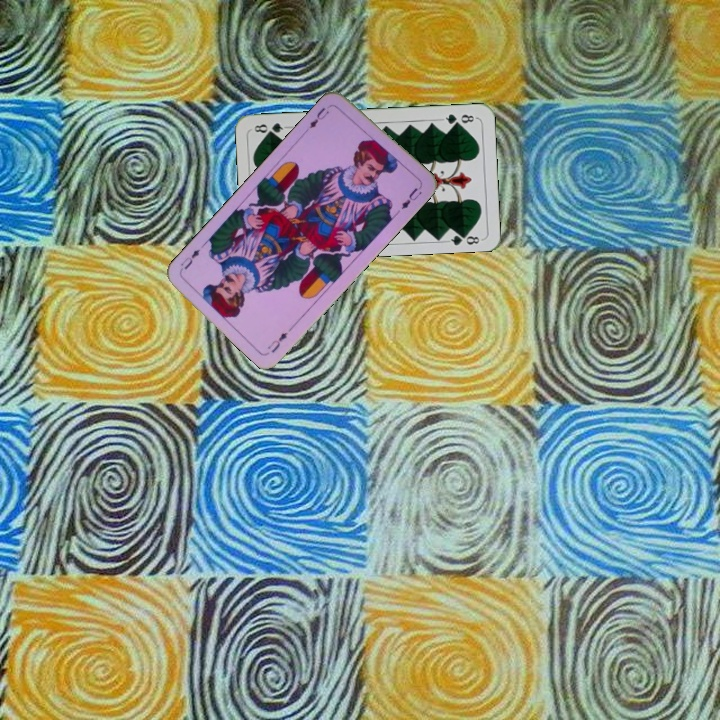EU: (305, 103, 332, 131), (263, 328, 290, 355)
G8: (438, 110, 479, 127)
